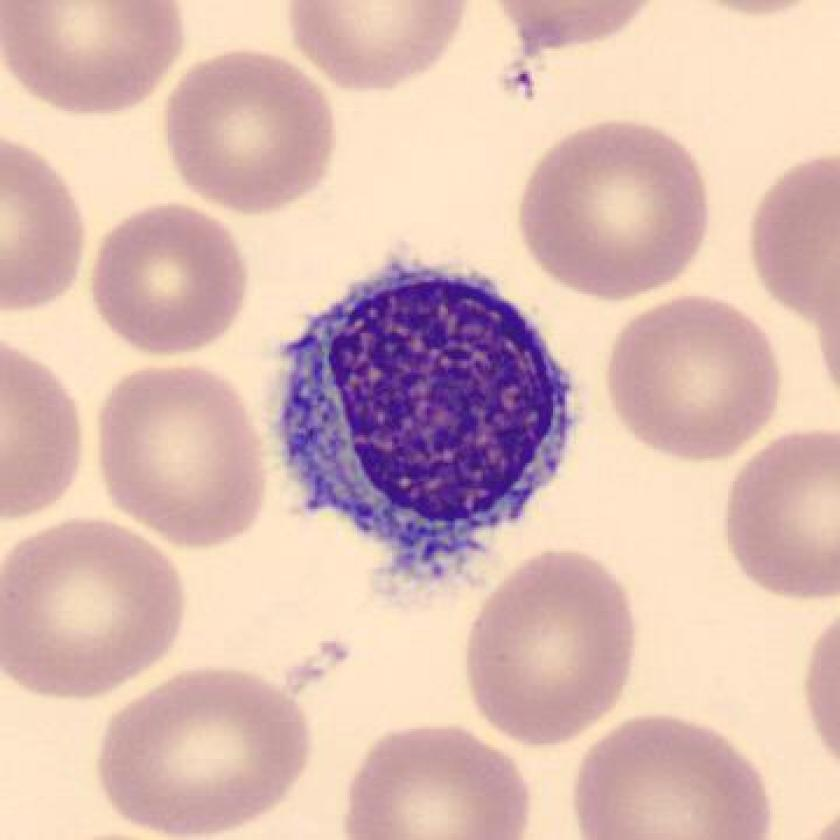lymphocyte: (253, 246, 589, 582)
